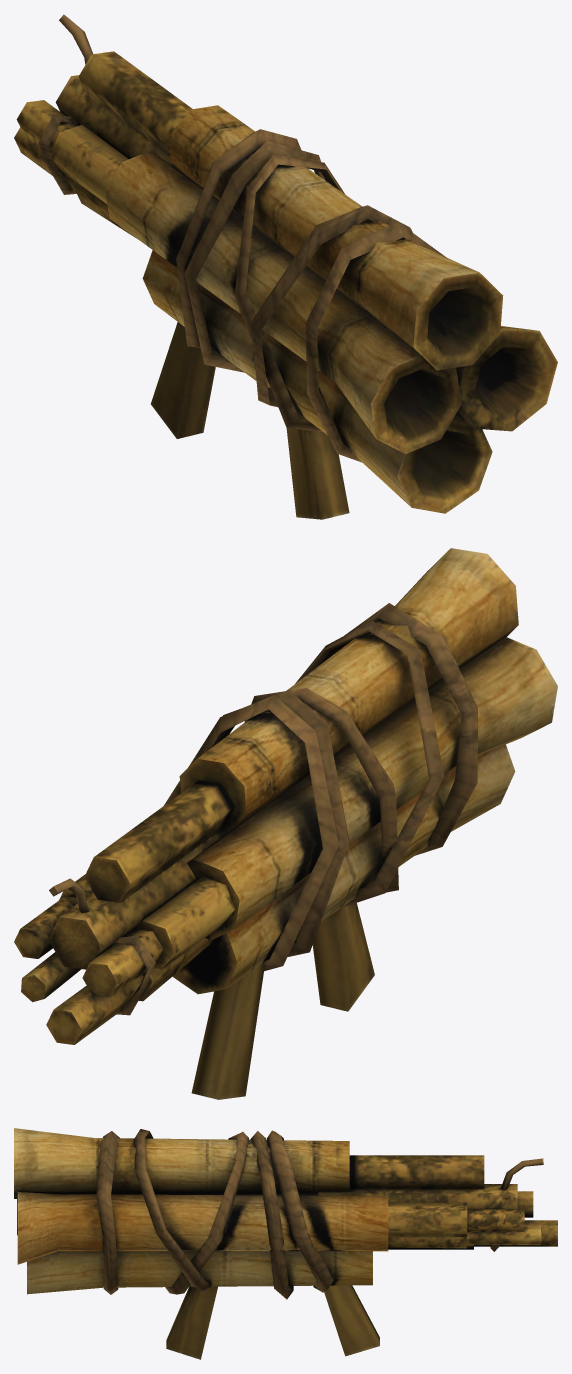
File: Bazooka.fbx
3 views of the same model, one above another, from view 1: azimuth 30°, elevation 25°; view 2: azimuth 150°, elevation 25°; view 3: azimuth 270°, elevation 25° (orthographic). The views are drawn at different scales.
Parts seen in each view (by area): view 1: Bazooka; view 2: Bazooka; view 3: Bazooka.
Boxes of the visible parts, x1,y1,x2,y2 form: Bazooka: (14,14,557,519); Bazooka: (14,548,557,1099); Bazooka: (14,1128,557,1359).
Bounding box in the file's own units: 0.149 × 0.2552 × 0.5552.
